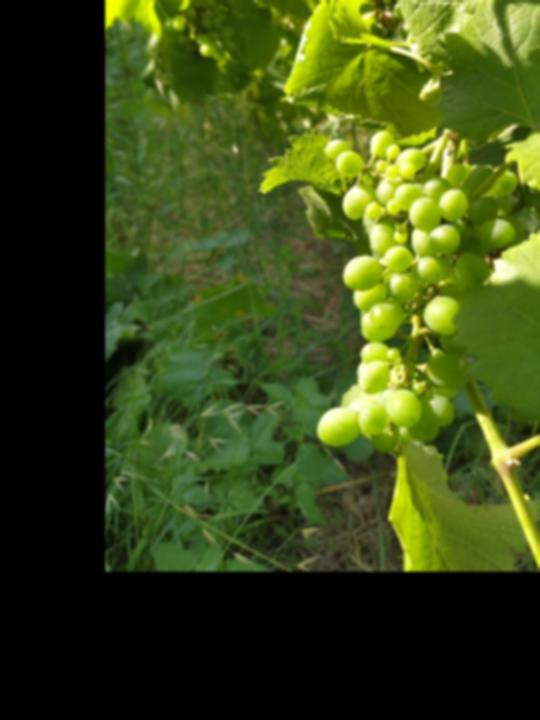grape: (311, 125, 520, 451)
